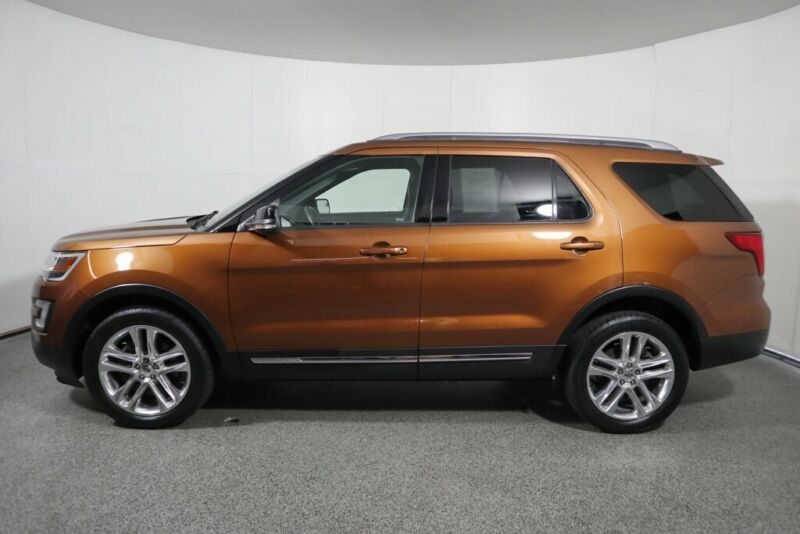Ford Explorer: (22, 127, 773, 438)
